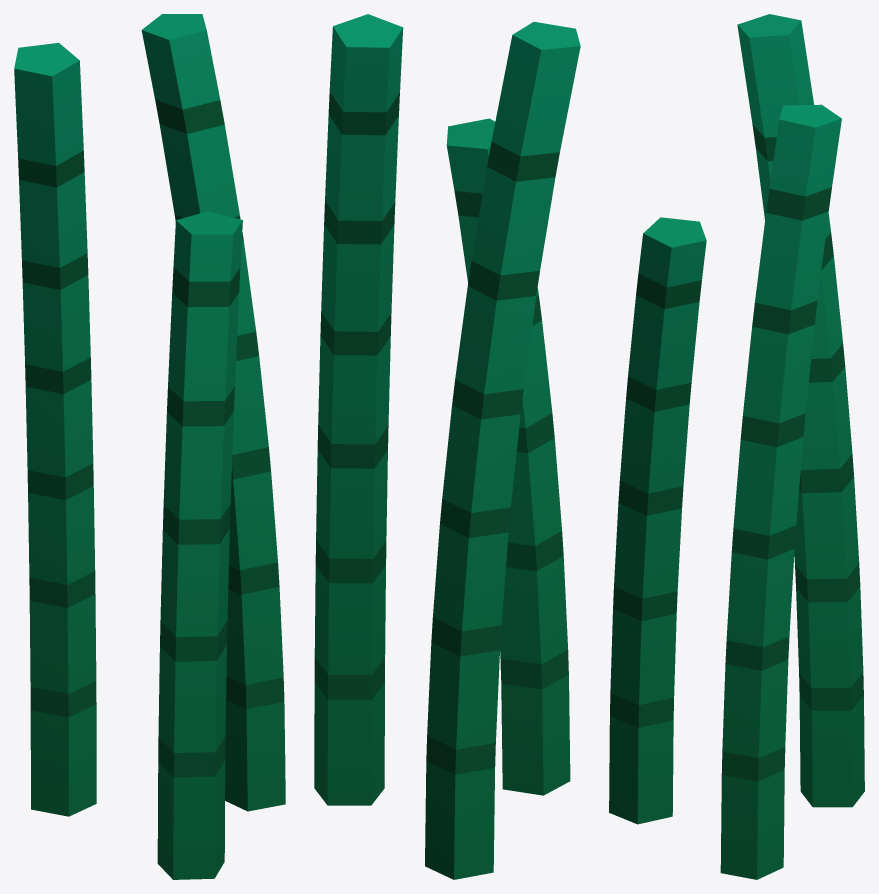
Rendered from Bamboo3.fbx.
3 views of the same model, side by side, from view 1: azimuth 30°, elevation 25°; view 2: azimuth 150°, elevation 25°; view 3: azimuth 270°, elevation 25° (orthographic). The views are drawn at different scales.
Visible parts, largest first — view 1: Cube.037; view 2: Cube.037; view 3: Cube.037.
Part boxes in pixels (left/top/right/bottom): Cube.037: left=14, top=14, right=285, bottom=879; Cube.037: left=314, top=14, right=580, bottom=879; Cube.037: left=609, top=14, right=864, bottom=879.
Bounding box in the file's own units: 87.66 × 251 × 77.76.
